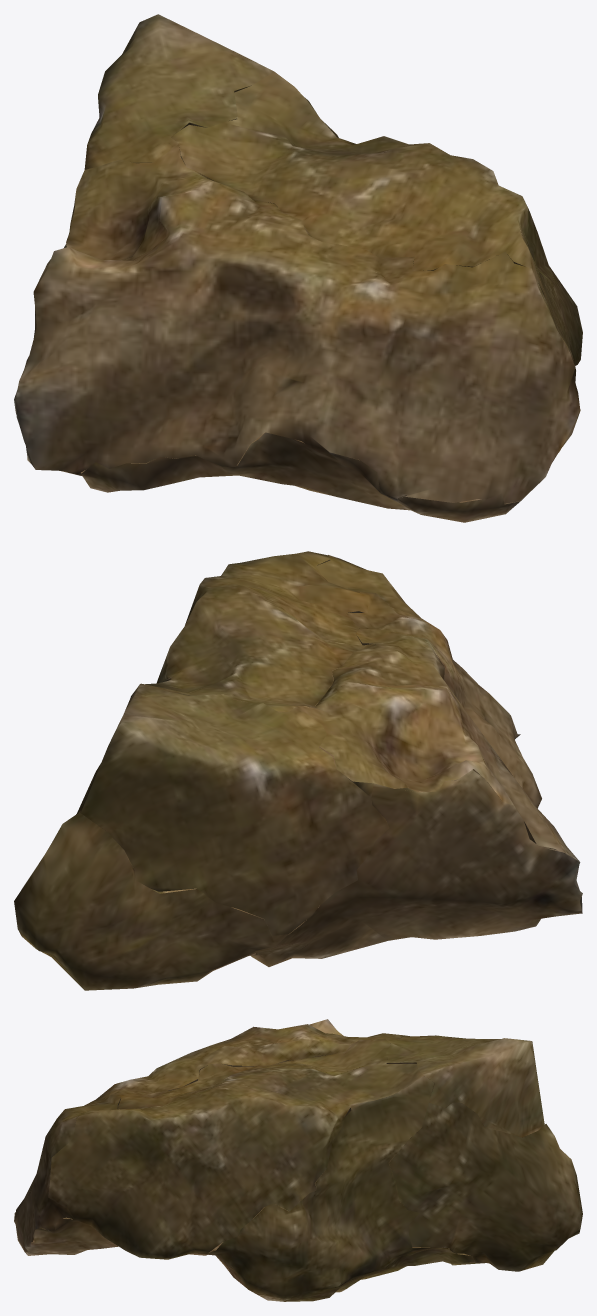
File: rock_5.glb
3 views of the same model, one above another, from view 1: azimuth 30°, elevation 25°; view 2: azimuth 150°, elevation 25°; view 3: azimuth 270°, elevation 25° (orthographic). The views are drawn at different scales.
Parts seen in each view (by area): view 1: rock_moss_set_01_rock06; view 2: rock_moss_set_01_rock06; view 3: rock_moss_set_01_rock06.
Boxes of the visible parts, left/top/right/bottom form: rock_moss_set_01_rock06: left=14, top=14, right=582, bottom=522; rock_moss_set_01_rock06: left=14, top=551, right=582, bottom=990; rock_moss_set_01_rock06: left=14, top=1019, right=582, bottom=1301.
Size of the model in its own units: 2.14 by 1.26 by 2.76.
Materials: 1 (1 with a texture image).
